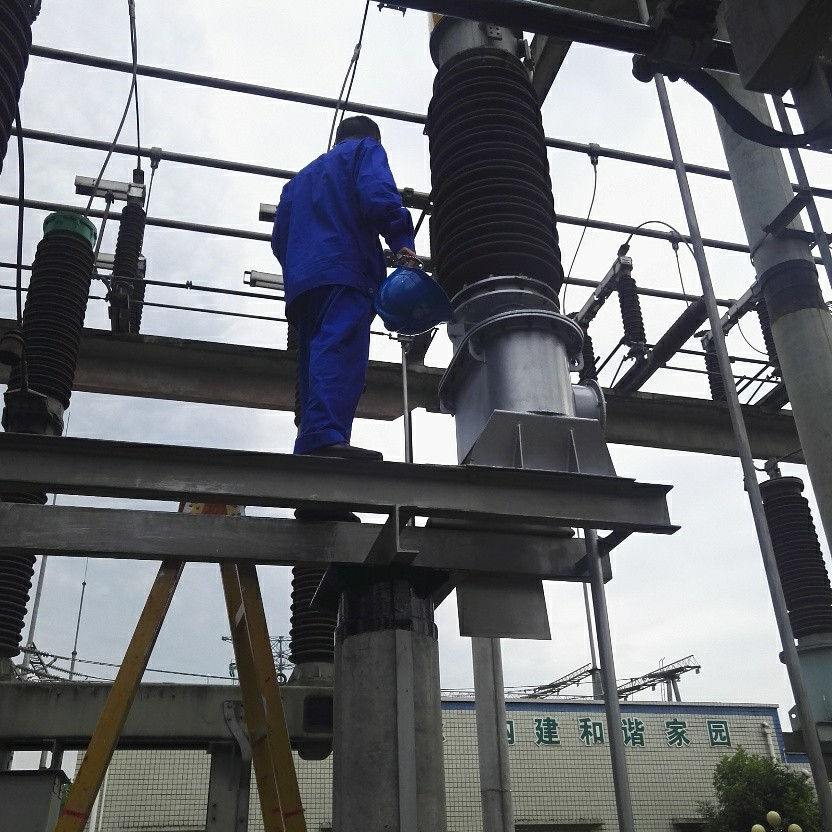no-hat: (332, 112, 384, 150)
